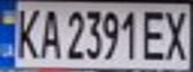1: (118, 7, 142, 61)
2: (63, 6, 84, 60)
3: (81, 7, 103, 61)
9: (100, 7, 124, 61)
A: (36, 4, 63, 60)
E: (139, 7, 172, 62)
K: (9, 3, 42, 60)
X: (160, 6, 193, 62)
